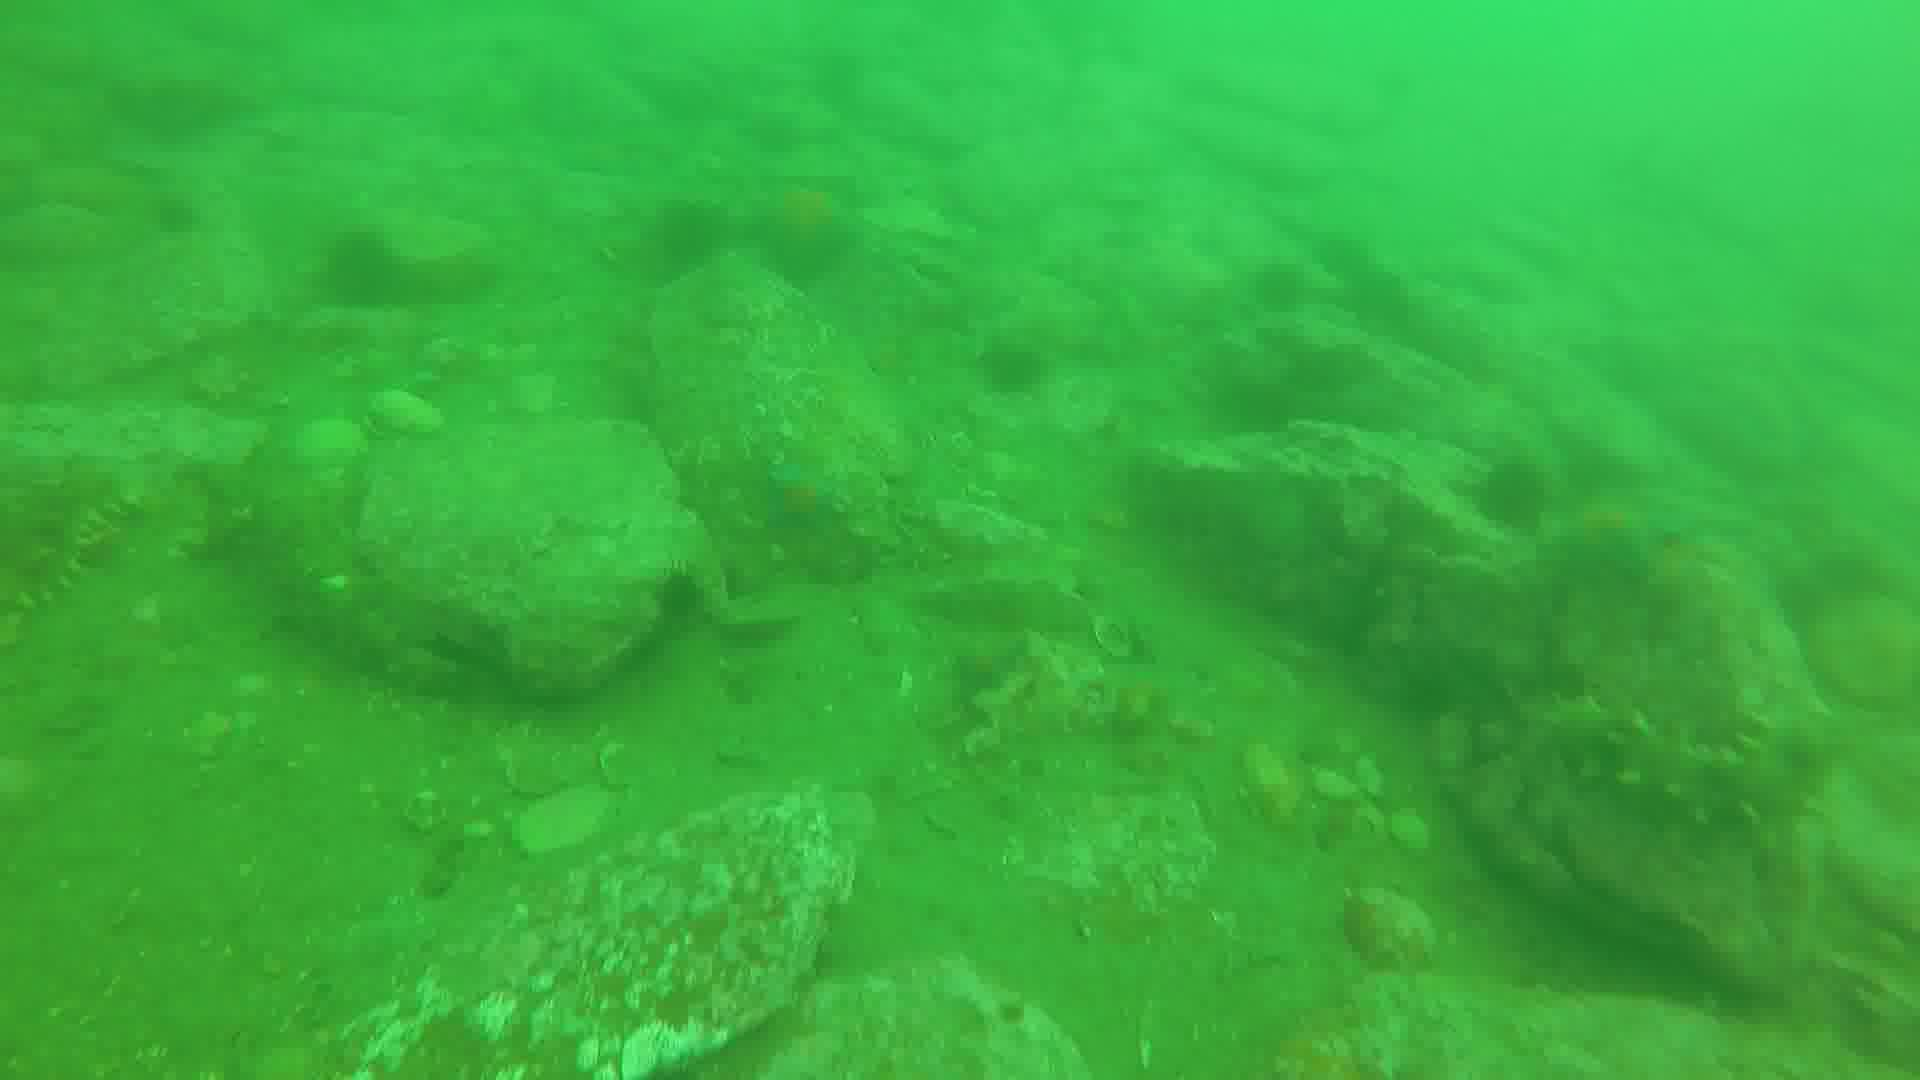echinus: (1476, 458, 1559, 524), (659, 196, 729, 264), (992, 340, 1056, 390), (657, 567, 709, 628)
holothurian: (1553, 692, 1826, 839)
starfish: (746, 177, 874, 289), (1542, 504, 1700, 593), (753, 465, 845, 543)
